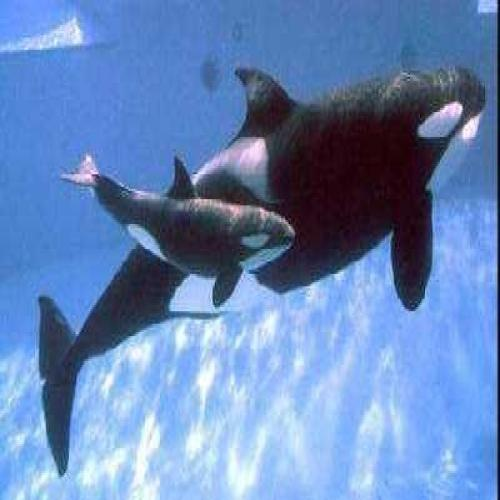killer_whale-endangered: (26, 25, 490, 421), (65, 132, 299, 304)
